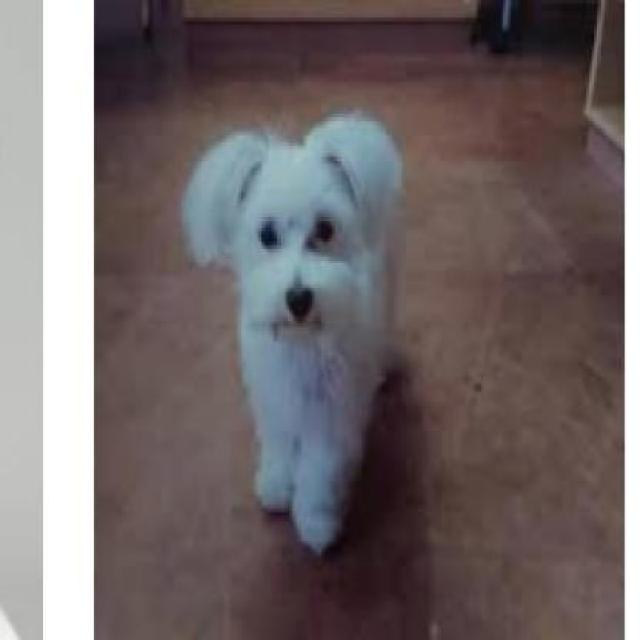Dog: (176, 112, 410, 557)
